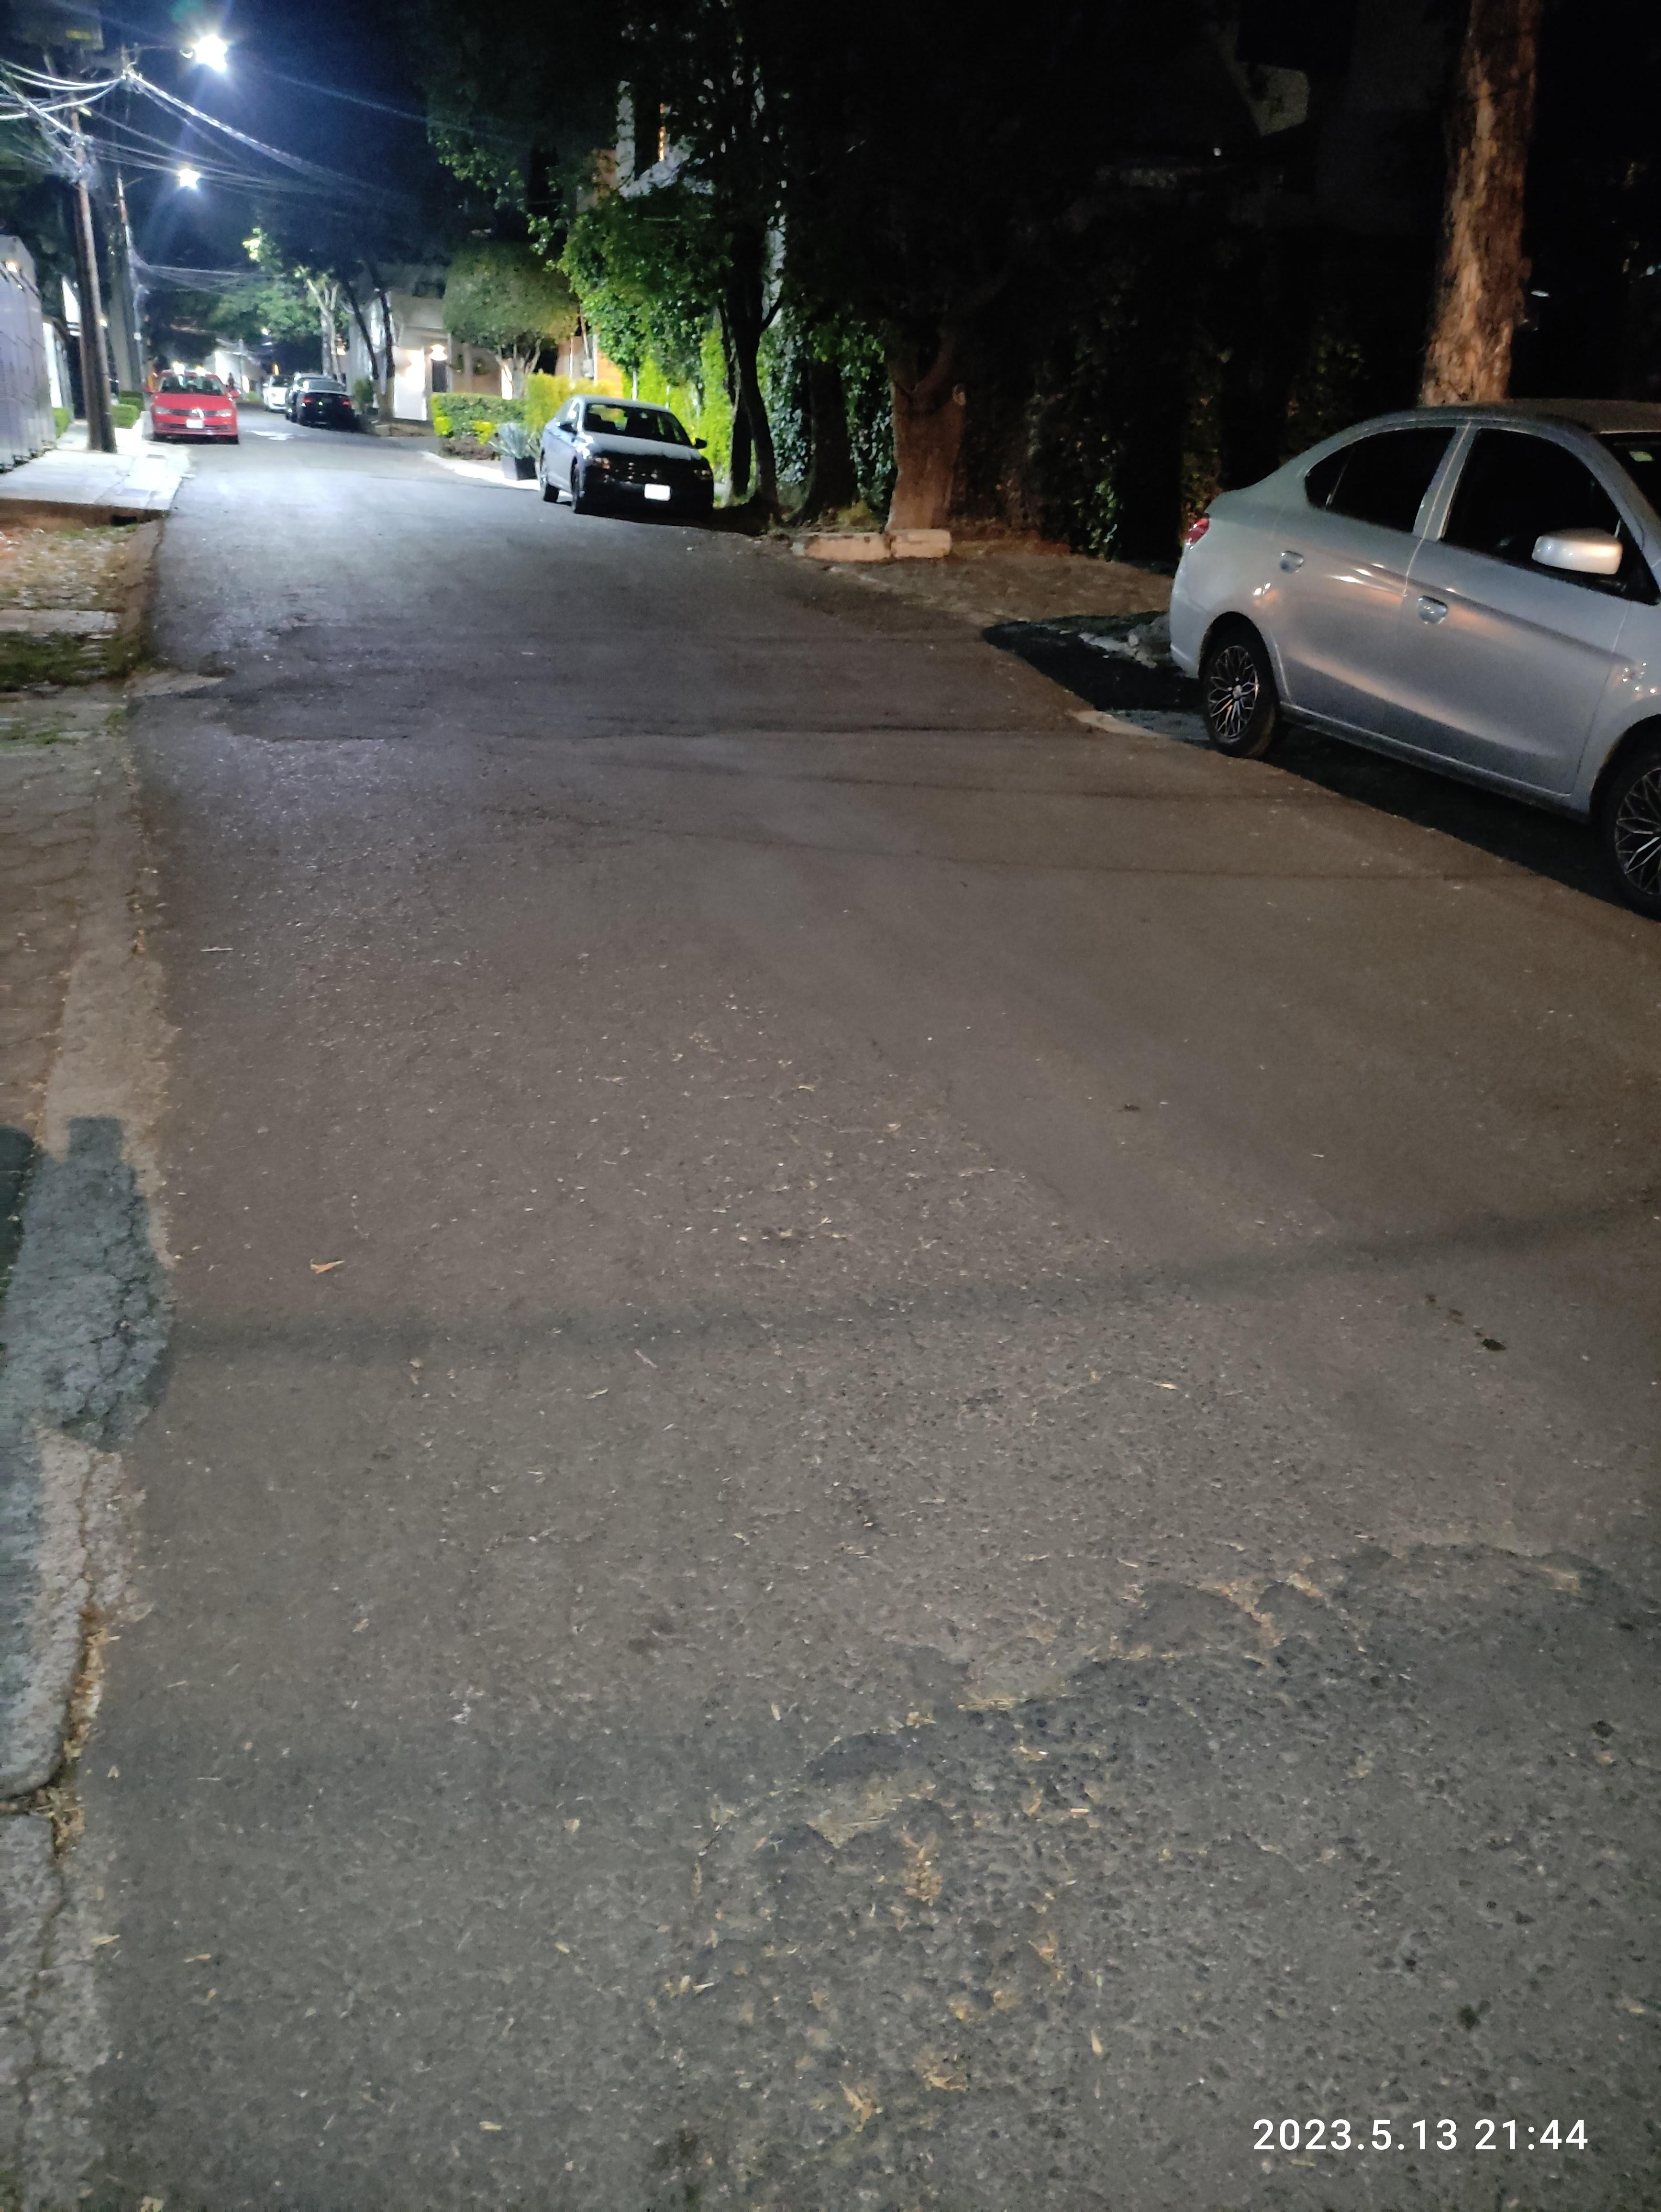alligator-crack: (629, 1691, 1143, 2212)
crack: (1029, 1528, 1641, 1711)
